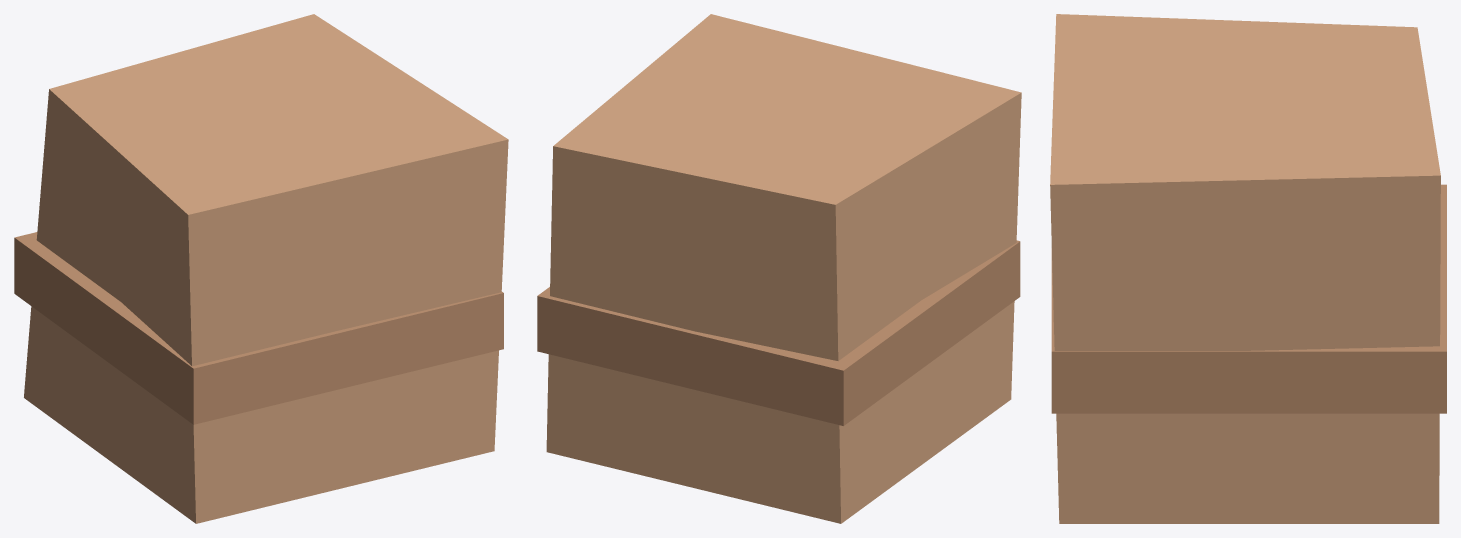
Rendered from mesa_block.glb.
3 views of the same model, side by side, from view 1: azimuth 30°, elevation 25°; view 2: azimuth 150°, elevation 25°; view 3: azimuth 270°, elevation 25° (orthographic). The views are drawn at different scales.
Parts seen in each view (by area): view 1: mesa_block; view 2: mesa_block; view 3: mesa_block.
Part boxes in pixels (x1,y1,x2,y2): mesa_block: (14, 14, 508, 523); mesa_block: (537, 14, 1021, 523); mesa_block: (1050, 14, 1446, 523).
Bounding box in the file's own units: 1.06 × 1 × 1.04.
